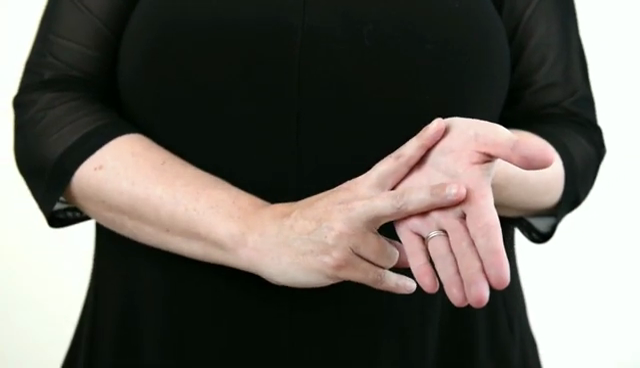V: (249, 106, 555, 317)
